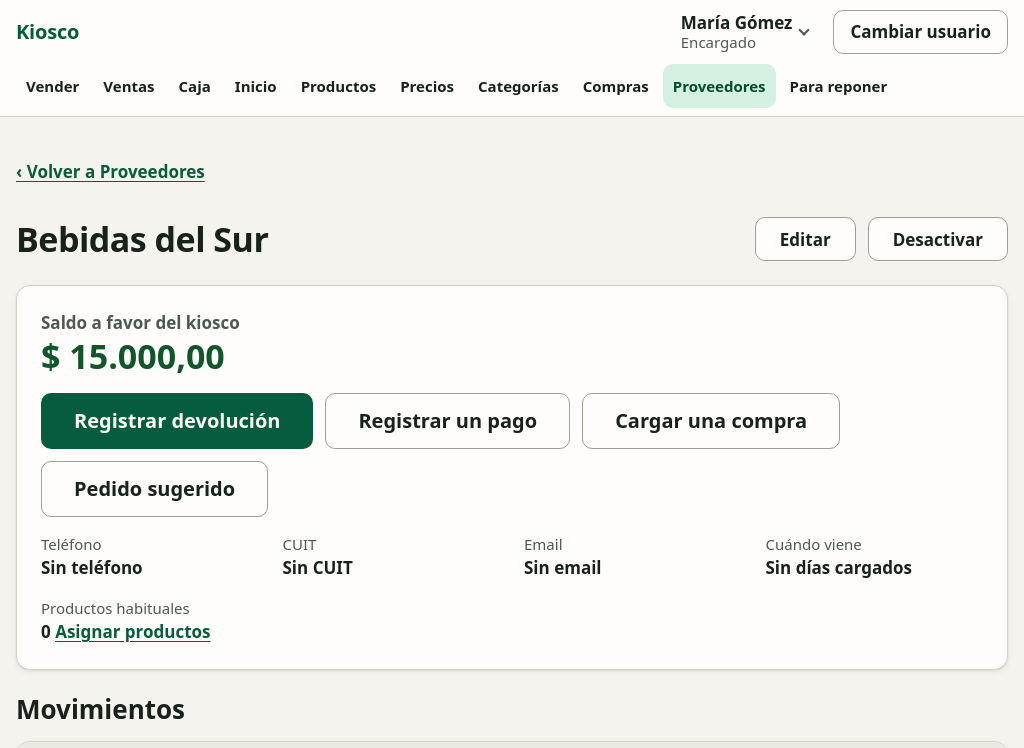
Test: Formulario de la devolución › la fecha solo se pide cuando la plata no entra a la caja
The image size is (1024, 748).
Click the button "Registrar devolución": click(177, 421) [41,393,313,449]
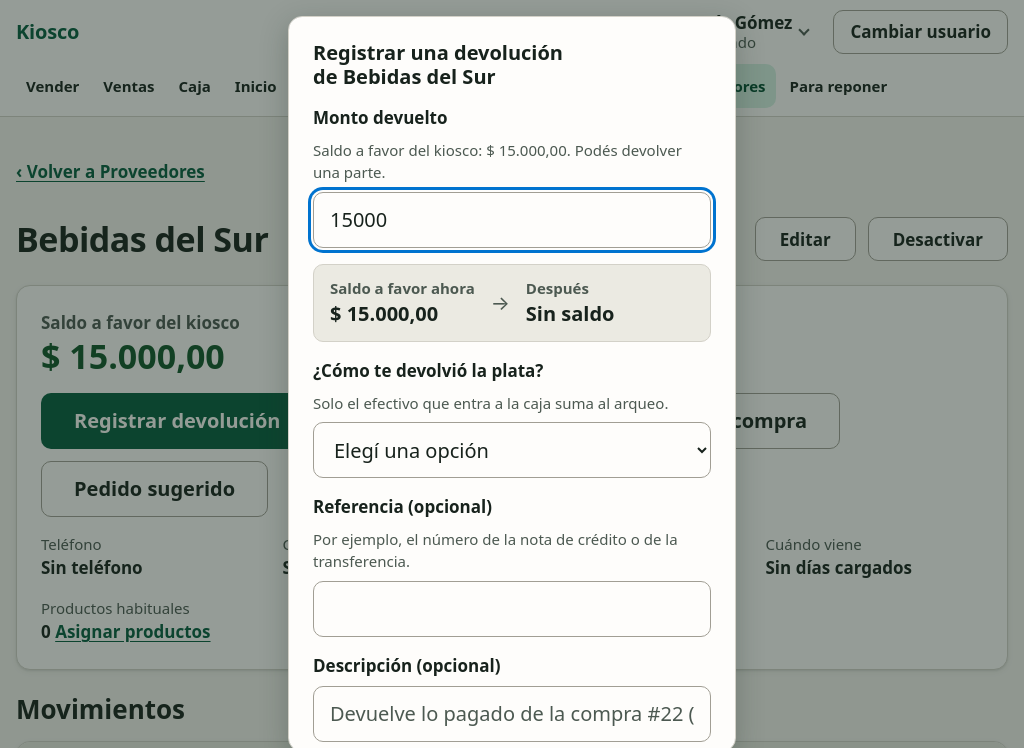
Check: the field labelled "Fecha en que" is not shown
Select "Transferencia" in the dropdown labelled "¿Cómo te devolvió la plata?": (512, 450) [313,422,711,478]
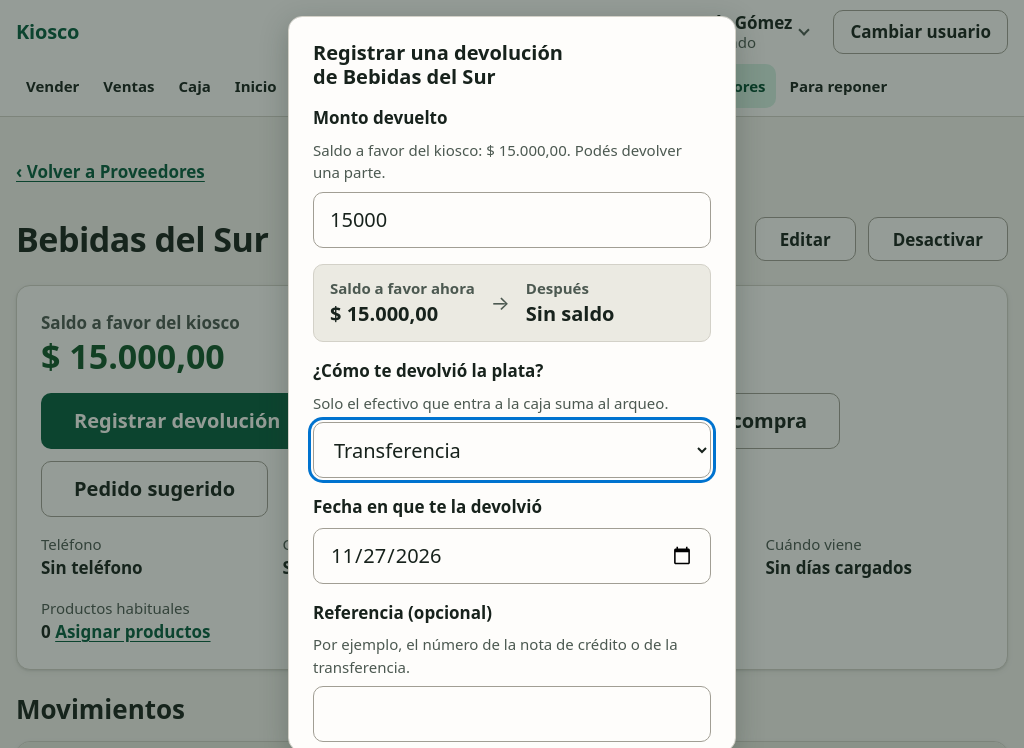
Check: the date field labelled "Fecha en que te la devolvió" is shown, box [313,528,711,584]
Select "Efectivo que entra a la caja (suma al arqueo)" in the dropdown labelled "¿Cómo te devolvió la plata?": (512, 450) [313,422,711,478]
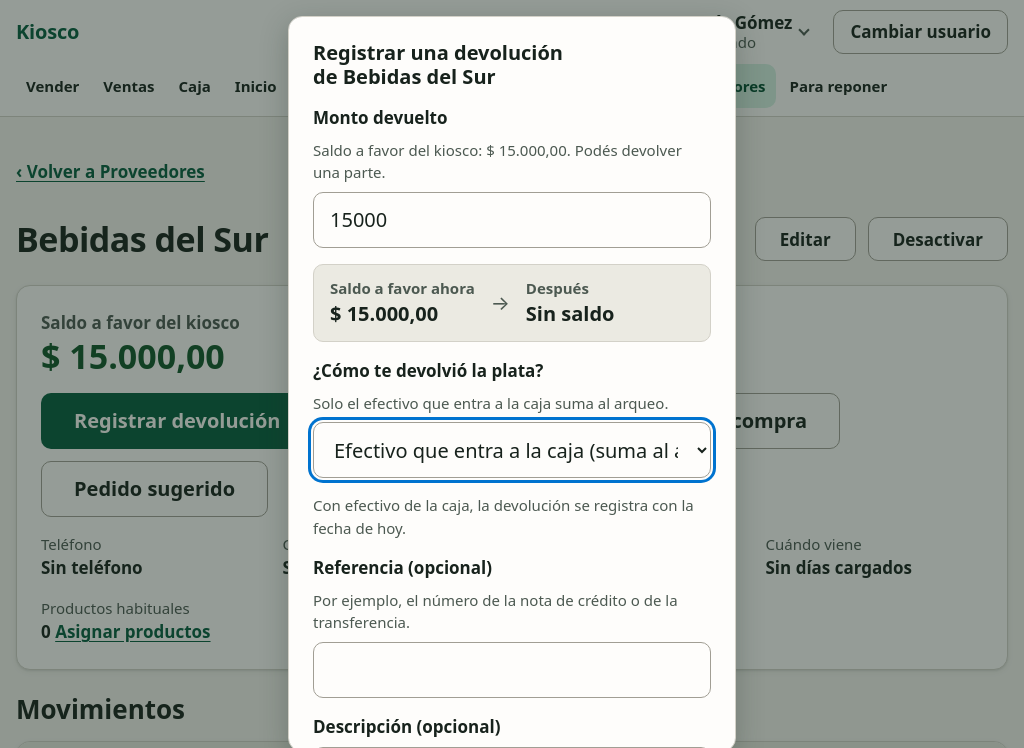
Check: the label labelled "Fecha en que" is gone
